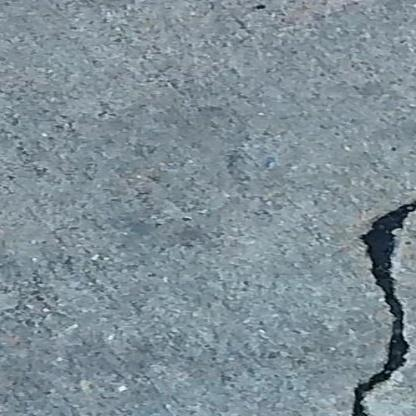Cracks: (345, 180, 416, 416)
